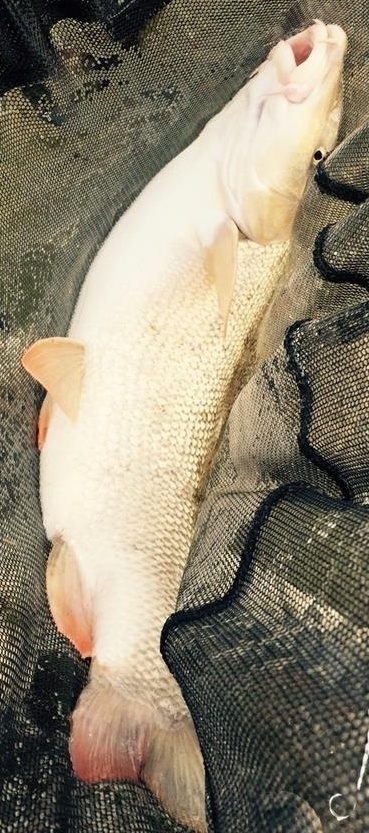Barbus barbus: (20, 20, 349, 833)
